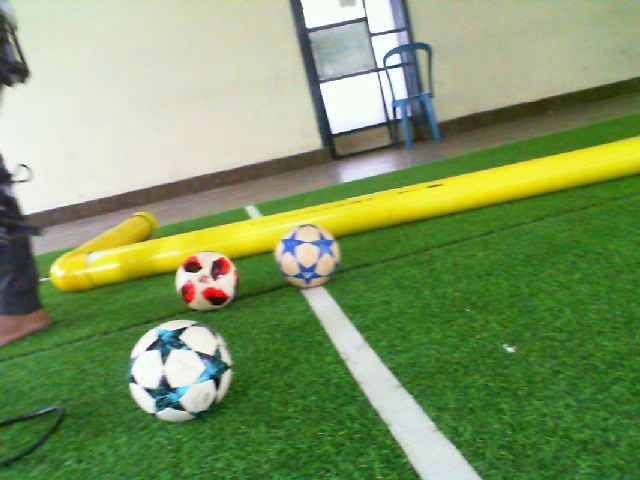ball: (122, 316, 236, 427), (271, 222, 345, 291), (173, 249, 241, 314)
